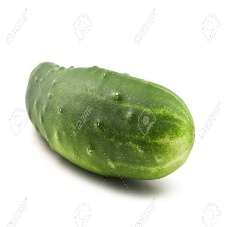cucumber: (24, 61, 196, 185)
